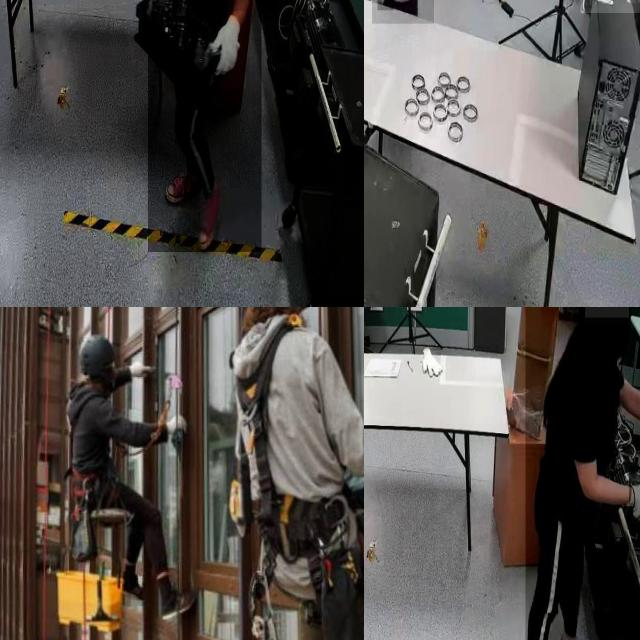Harness: (238, 323, 325, 564)
hand_glove: (208, 11, 246, 89), (629, 466, 640, 533), (144, 0, 167, 9), (377, 0, 394, 11)
head_nohelmet: (584, 307, 629, 318)
person: (525, 307, 640, 640), (148, 0, 262, 252)
shoes: (163, 159, 199, 212), (555, 624, 594, 640)
